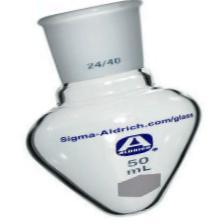Pear shaped flask: (12, 12, 205, 216)
